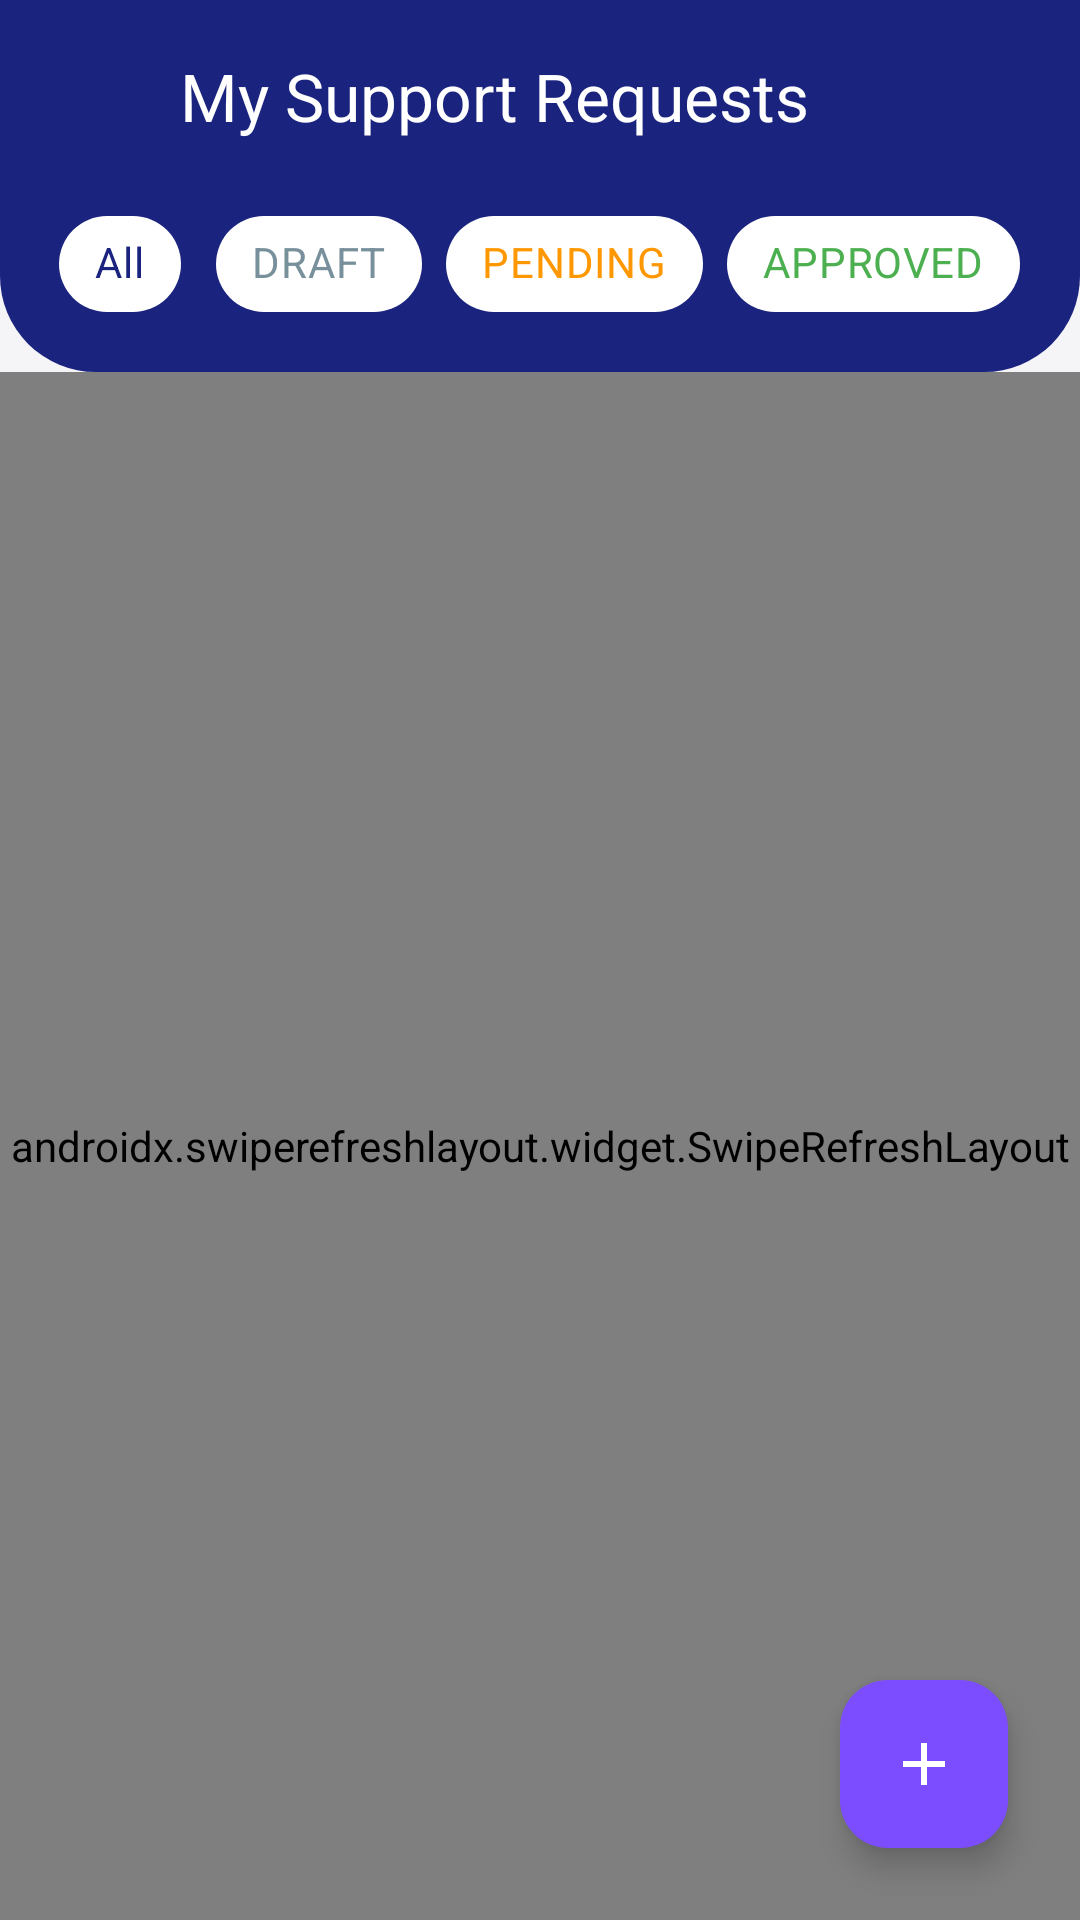

Icons on this 1080px x 1920px Android screen, each with the point to tap as [x,y]:
New Request: [924,1764]
